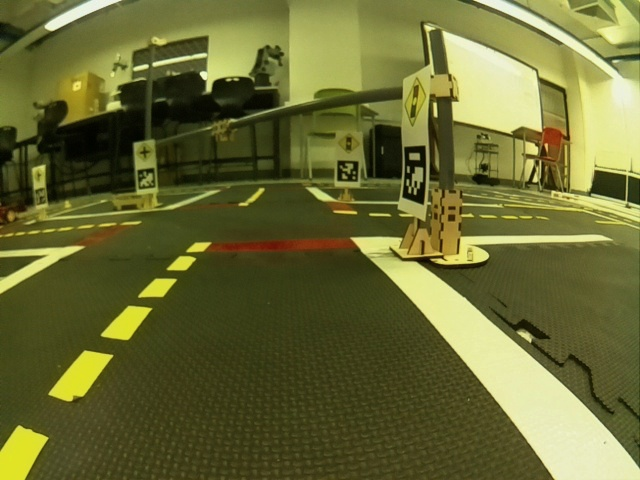aviso de semaforo: (397, 72, 432, 131), (333, 129, 363, 157)
linea de pare: (207, 236, 357, 252)
